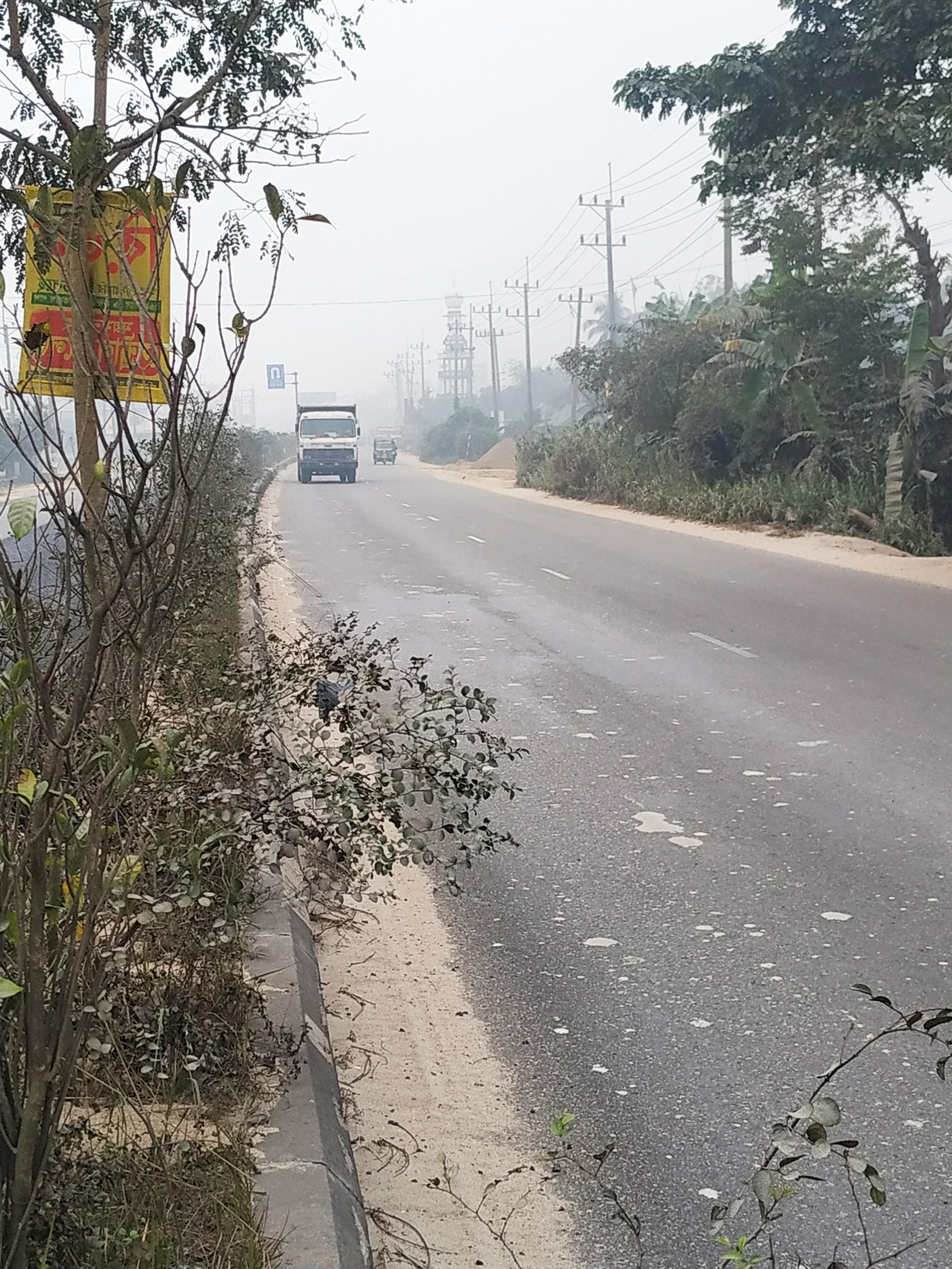Truck: (278, 386, 379, 501)
